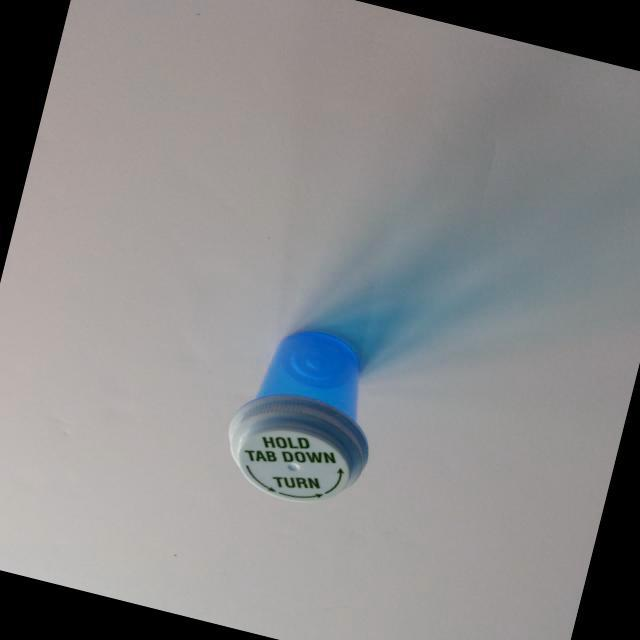plastic: (195, 296, 434, 532)
